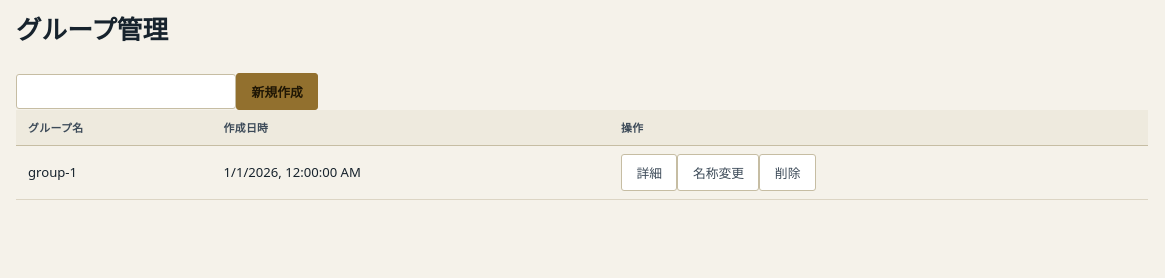
GroupListPage › creates a group and shows a success toast
Expected: the text "group-1" is shown, [16,145,212,199]
Type "new-group" into the field with test id "group-list-page-new-name-input" at point(126, 91), box [16,74,236,109]
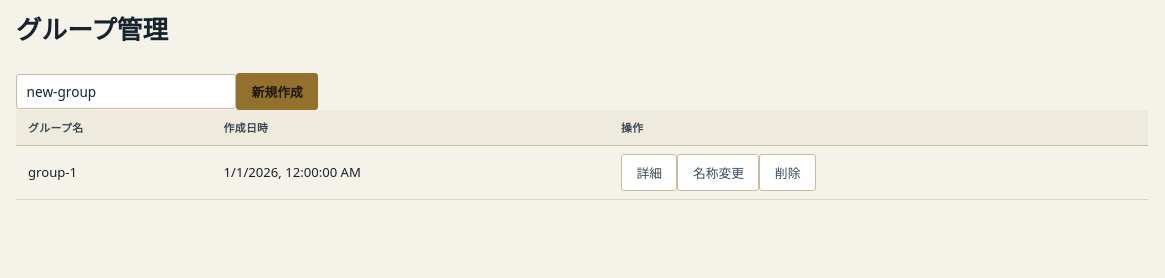
Click the button with test id "group-list-page-new-button" at point(277, 91), box [236,73,318,110]
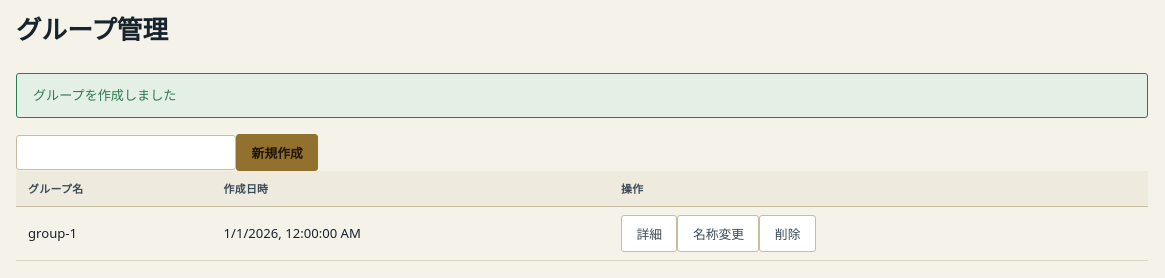
Expected: the message "グループを作成しました" is shown, [16,73,1148,118]
